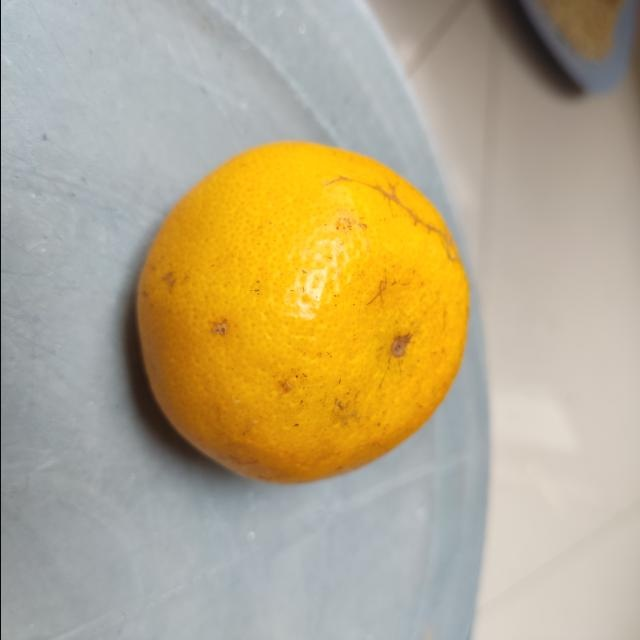agrume: (132, 137, 471, 487)
